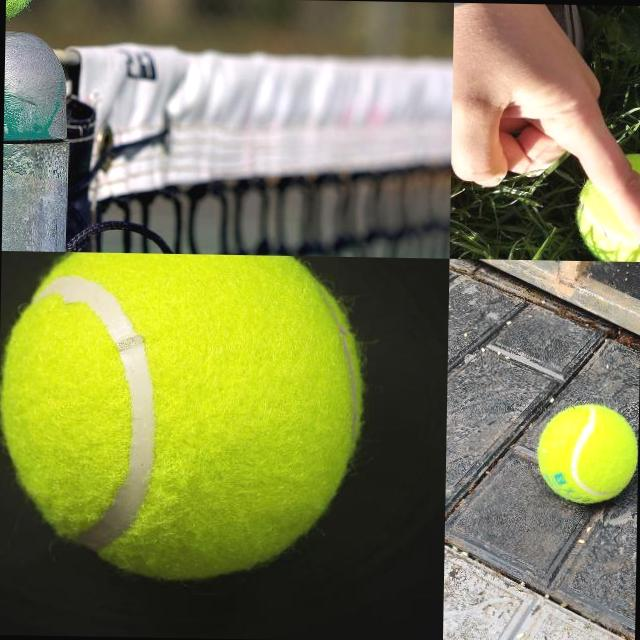Tennis Ball: (0, 250, 370, 585), (536, 402, 638, 504), (575, 150, 640, 260)
